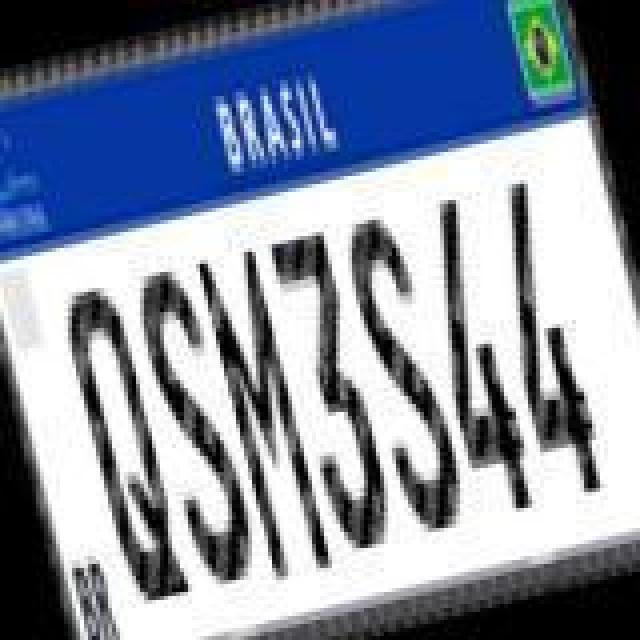3: (262, 226, 402, 558)
4: (470, 170, 610, 502), (404, 196, 540, 524)
M: (194, 248, 334, 584)
Q: (54, 274, 194, 606)
S: (124, 258, 268, 590), (336, 210, 480, 542)
